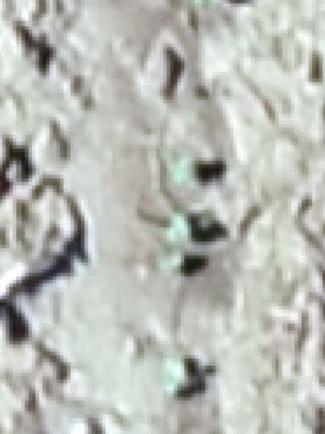cotton: (173, 156, 194, 185), (171, 214, 191, 241), (162, 255, 182, 274), (167, 359, 186, 377), (166, 385, 179, 400)
